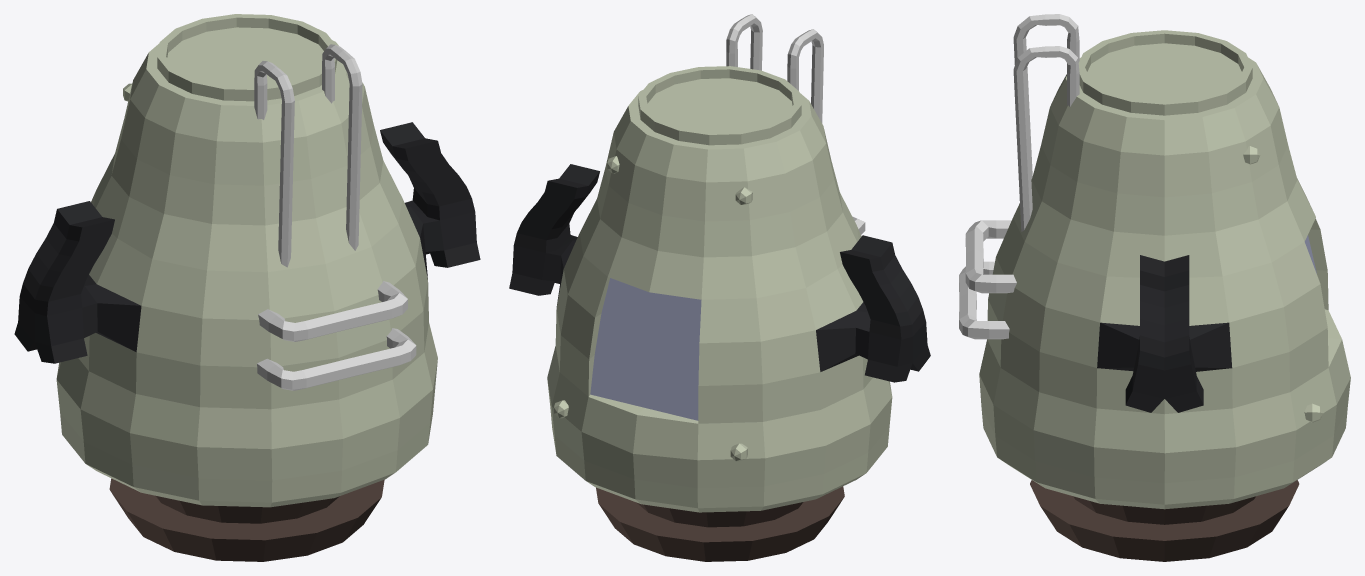
Rendered from spacepod.fbx.
The picture shows the model from 3 angles, left to right: view 1: azimuth 30°, elevation 25°; view 2: azimuth 150°, elevation 25°; view 3: azimuth 270°, elevation 25°; orthographic projection. The views are drawn at different scales.
Parts seen in each view (by area): view 1: Circle; view 2: Circle; view 3: Circle.
Boxes of the visible parts, x1,y1,x2,y2 form: Circle: [14, 14, 480, 561]; Circle: [509, 14, 930, 561]; Circle: [959, 14, 1350, 561].
Bounding box in the file's own units: 578 × 642 × 473.
